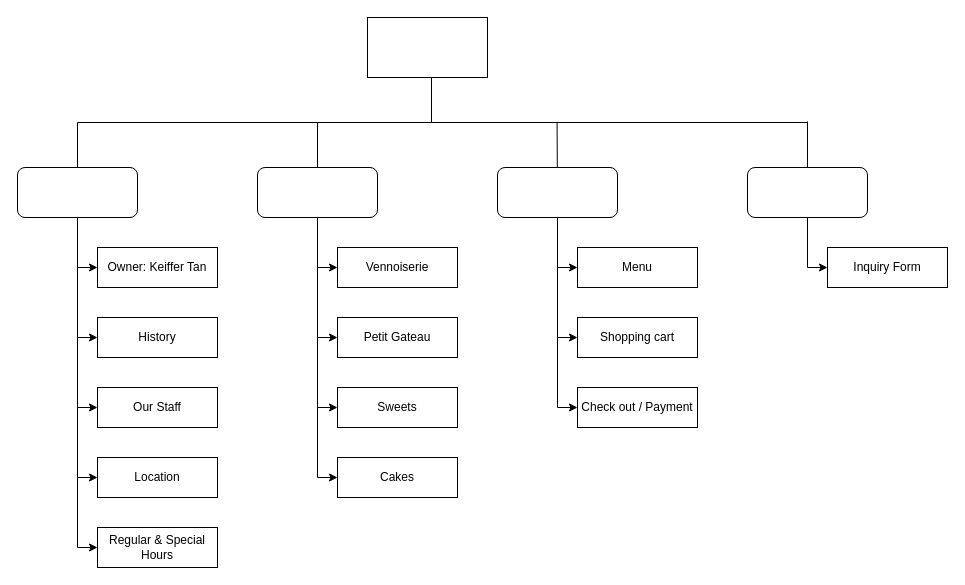
The diagram is 965 pixels wide and 585 high, and some of its shapes have lost their labels. The shapes that lost their labels are listed below. From the top down, each one's centre as x and y in pixels, then its label:
At pixel 427 47: "Home".
At pixel 77 192: "About Us".
At pixel 317 192: "Pastries".
At pixel 557 192: "Order Online".
At pixel 807 192: "Contact".
